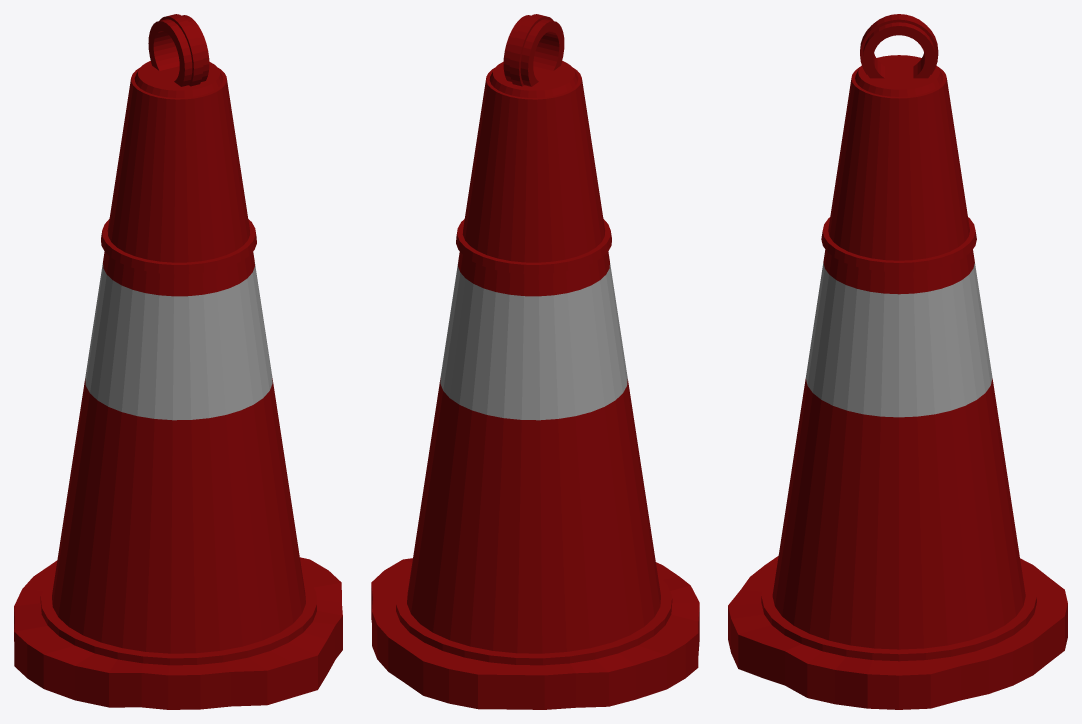
3 renders of one model, left to right at view 1: azimuth 30°, elevation 25°; view 2: azimuth 150°, elevation 25°; view 3: azimuth 270°, elevation 25°, orthographic.
Parts seen in each view (by area): view 1: 柱体, 柱体.001, 柱体.002; view 2: 柱体, 柱体.001, 柱体.002; view 3: 柱体, 柱体.001, 柱体.002.
Part boxes in pixels (x1,y1,x2,y2): 柱体: (14,61,342,709); 柱体.001: (85,262,272,420); 柱体.002: (148,14,209,86); 柱体: (371,61,699,709); 柱体.001: (440,262,627,420); 柱体.002: (503,14,564,86); 柱体: (728,55,1067,709); 柱体.001: (805,263,992,417); 柱体.002: (860,14,938,78).
Size of the model in its own units: 2.99 by 5.95 by 2.94.
